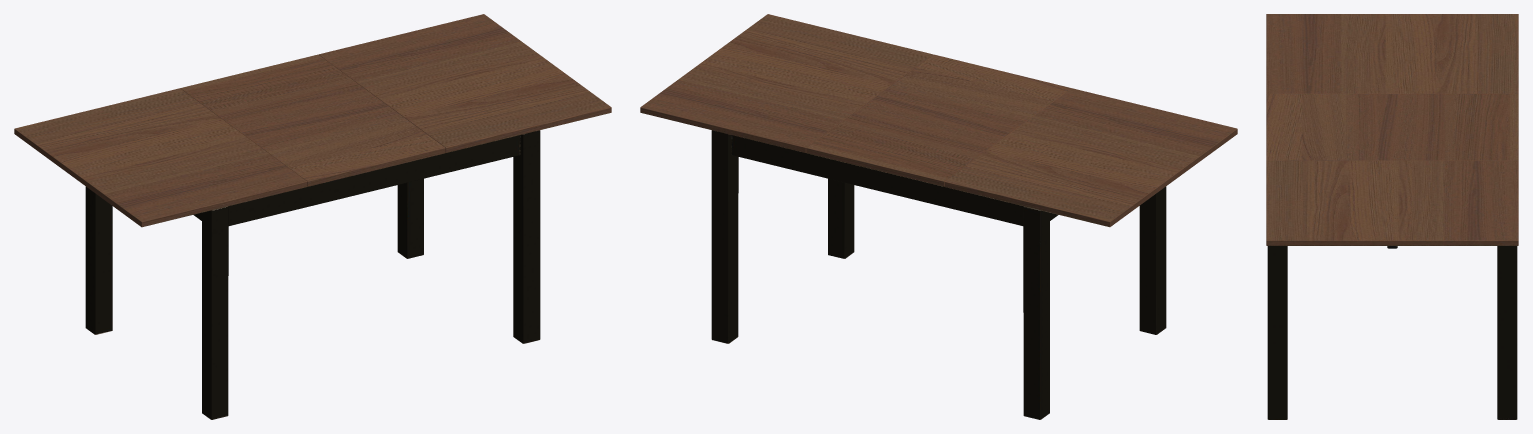
The model's file is DiningTable.glb.
The picture shows the model from 3 angles, left to right: view 1: azimuth 30°, elevation 25°; view 2: azimuth 150°, elevation 25°; view 3: azimuth 270°, elevation 25°; orthographic projection.
Visible parts, largest first — view 1: ÅLHULT_206.007.89, ÅLHULT_206.007.002, ÅLHULT_206.007.001, ÅLHULT_206.007.003; view 2: ÅLHULT_206.007.89, ÅLHULT_206.007.002, ÅLHULT_206.007.001, ÅLHULT_206.007.003; view 3: ÅLHULT_206.007.001, ÅLHULT_206.007.002, ÅLHULT_206.007.003, ÅLHULT_206.007.89.
Part boxes in pixels (<box>): ÅLHULT_206.007.89: <box>85,130,540,419</box>; ÅLHULT_206.007.002: <box>14,88,307,227</box>; ÅLHULT_206.007.001: <box>318,14,611,152</box>; ÅLHULT_206.007.003: <box>180,54,445,186</box>; ÅLHULT_206.007.89: <box>711,130,1166,419</box>; ÅLHULT_206.007.002: <box>944,88,1237,227</box>; ÅLHULT_206.007.001: <box>640,14,933,152</box>; ÅLHULT_206.007.003: <box>806,54,1071,186</box>; ÅLHULT_206.007.001: <box>1266,160,1518,248</box>; ÅLHULT_206.007.002: <box>1266,14,1518,93</box>; ÅLHULT_206.007.003: <box>1266,94,1518,160</box>; ÅLHULT_206.007.89: <box>1267,246,1517,419</box>.
Size of the model in its own units: 1.7 by 0.7495 by 0.8.
Materials: 8 (8 with a texture image).
